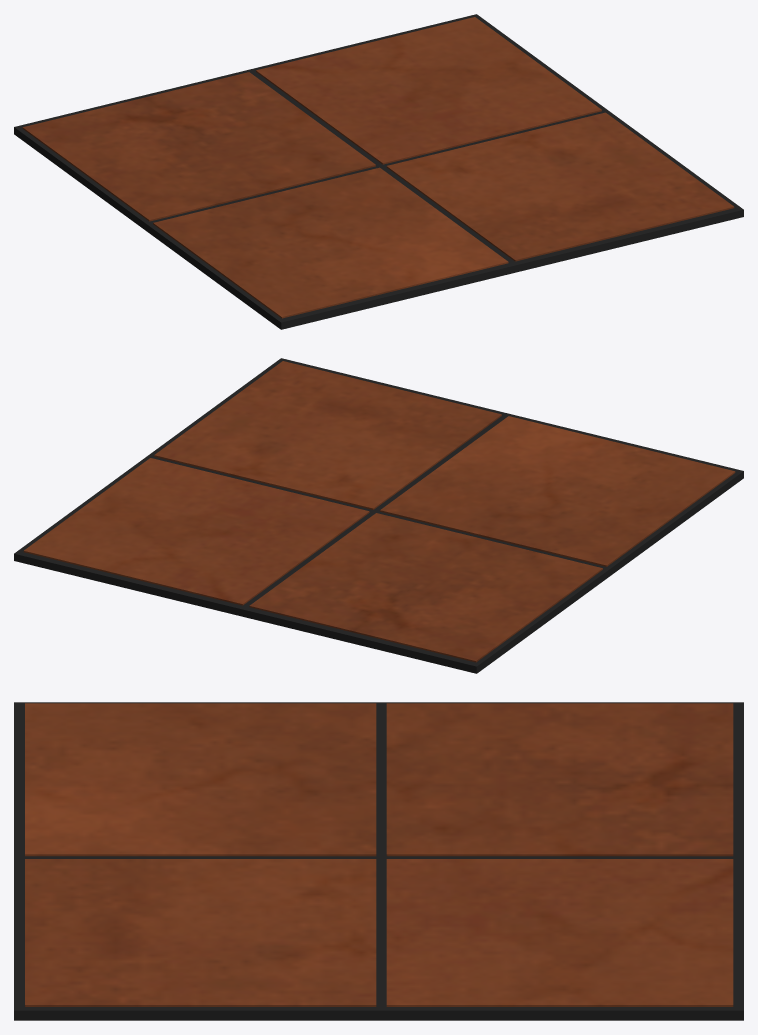
The model's file is tile.fbx.
3 views of the same model, one above another, from view 1: azimuth 30°, elevation 25°; view 2: azimuth 150°, elevation 25°; view 3: azimuth 270°, elevation 25° (orthographic). The views are drawn at different scales.
Visible parts, largest first — view 1: tile; view 2: tile; view 3: tile.
Part boxes in pixels (left/top/right/bottom): tile: left=14, top=14, right=743, bottom=329; tile: left=14, top=358, right=743, bottom=673; tile: left=14, top=702, right=743, bottom=1020.
Size of the model in its own units: 2 by 0.0361 by 2.
1 material, 1 textured.
